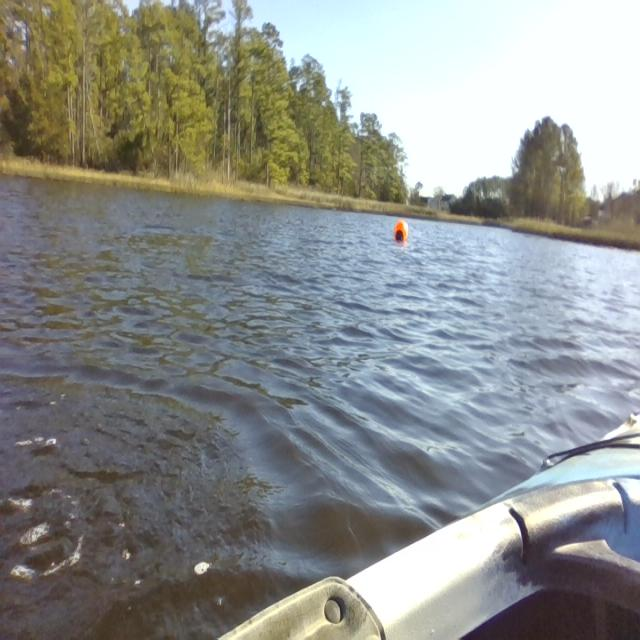Buoy: (392, 212, 414, 250)
